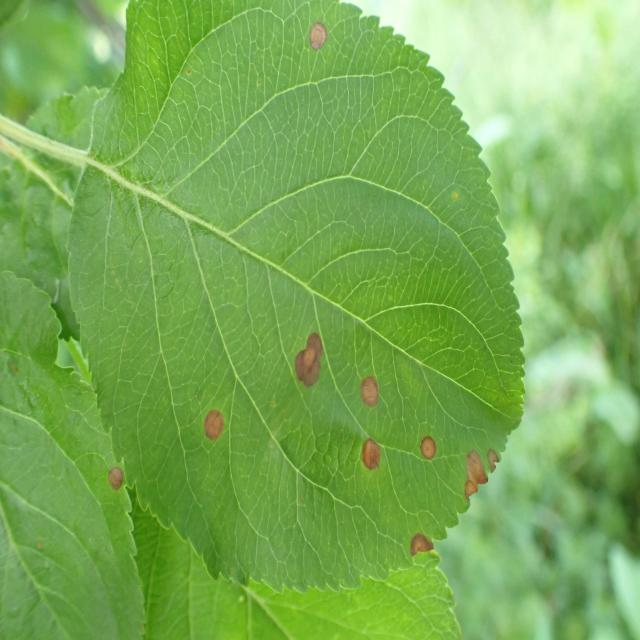Black Rot: (288, 309, 330, 423), (462, 432, 494, 526), (294, 0, 331, 66), (354, 432, 391, 492), (198, 402, 224, 461), (338, 372, 385, 404), (404, 520, 445, 554), (108, 452, 132, 498), (418, 424, 439, 473)
